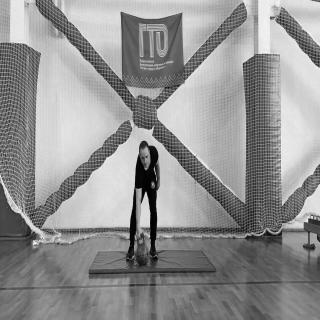kettlebell: (136, 233, 150, 267)
